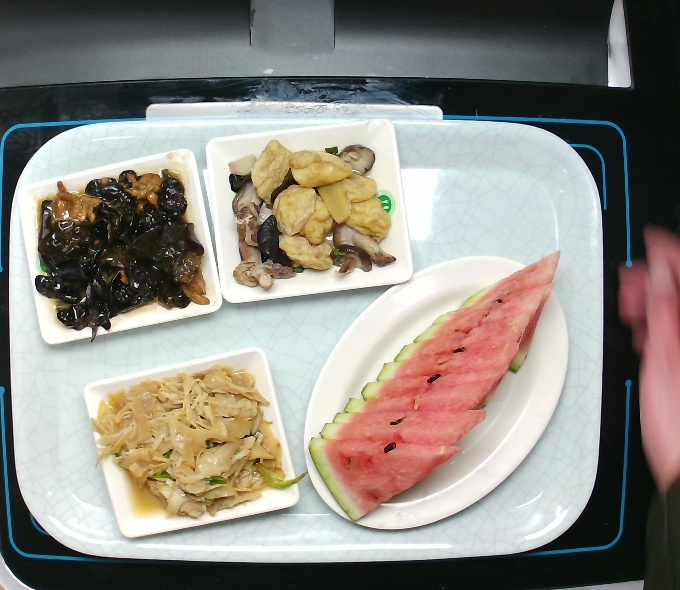wcq-LuSun: (99, 372, 279, 526)
wcq-MuErChaoRou: (32, 166, 208, 334)
wcq-XiGua: (300, 234, 568, 530)
wcq-YouPaoPaiGu: (233, 142, 399, 292)
